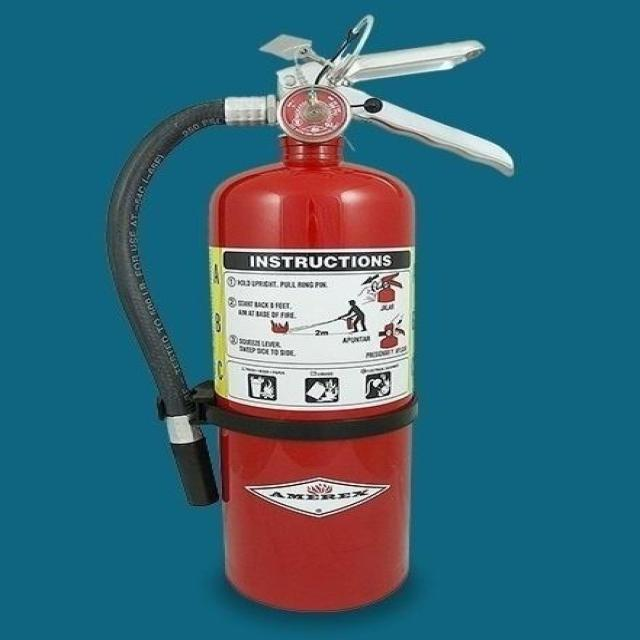fire_extinguisher: (98, 10, 522, 616)
